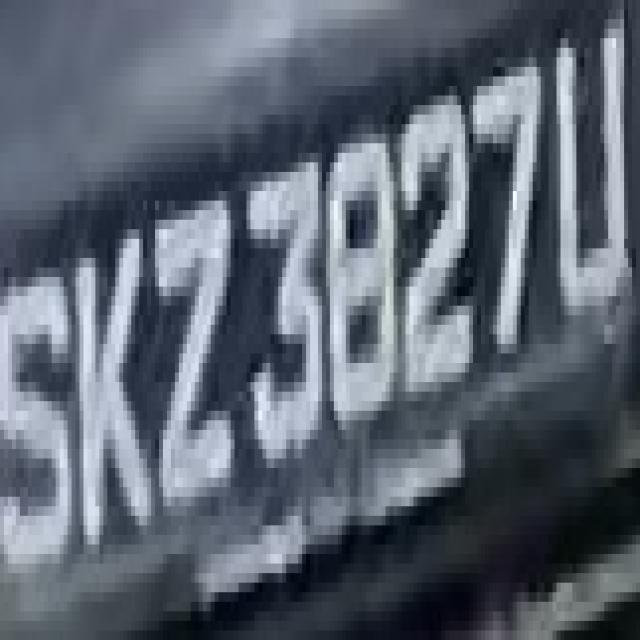2: (390, 86, 477, 430)
3: (235, 134, 318, 487)
7: (457, 29, 545, 401)
8: (318, 105, 402, 449)
K: (68, 201, 151, 573)
S: (16, 229, 67, 612)
U: (549, 9, 636, 334)
Z: (147, 182, 247, 544)
